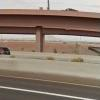Bridge: (4, 1, 94, 43)
